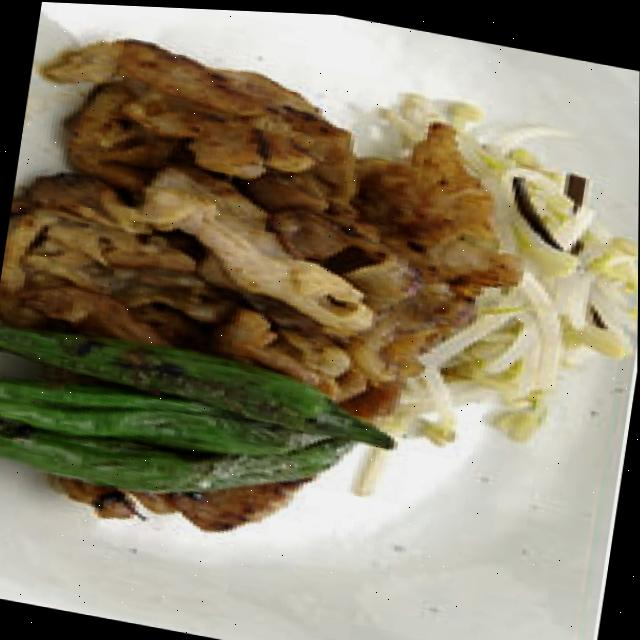猪肉菜式: (0, 20, 607, 632)
